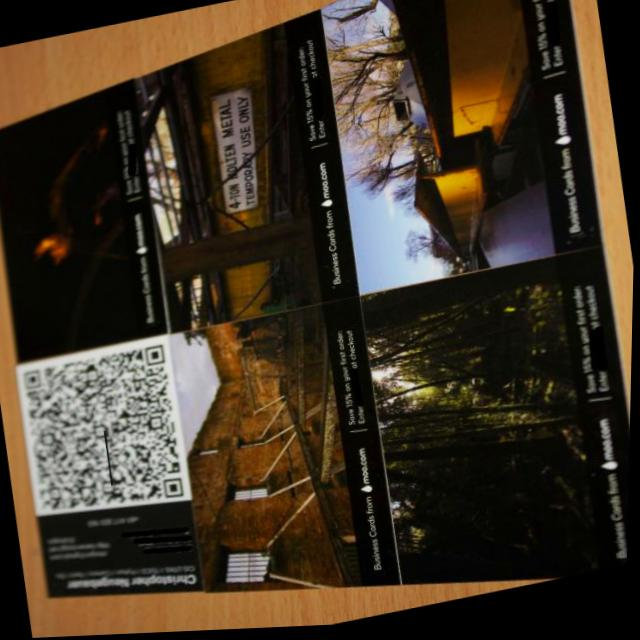qrcode: (24, 345, 189, 525)
